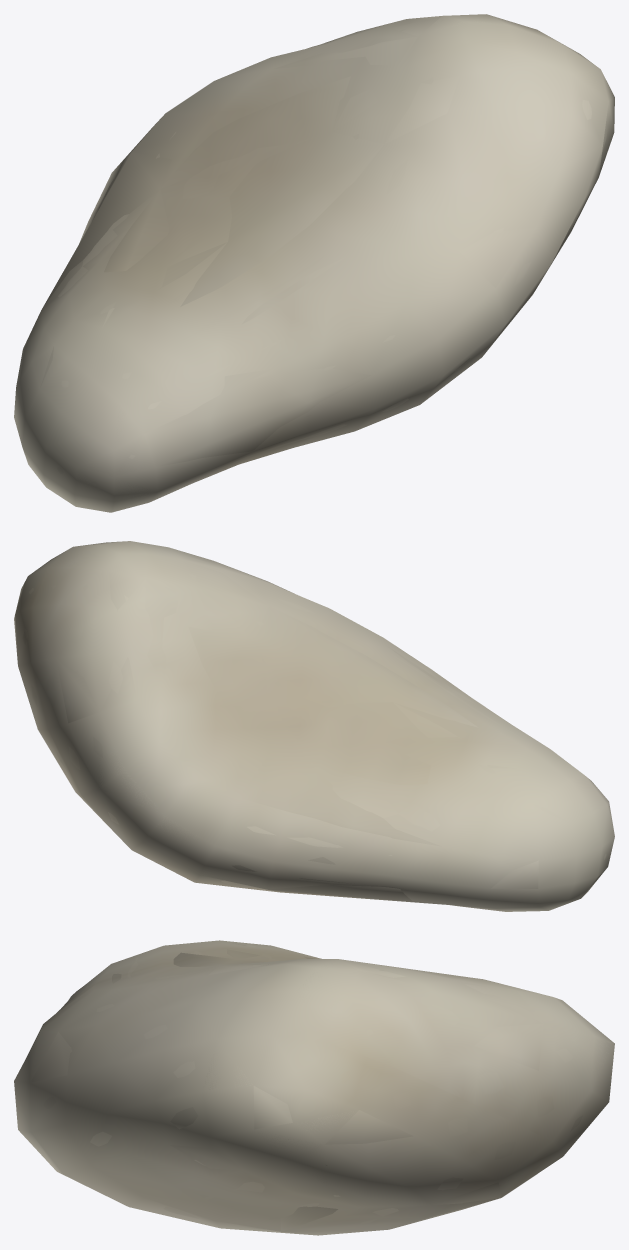
The model's file is L tarsi centrale.fbx.
3 renders of one model, top to bottom at view 1: azimuth 30°, elevation 25°; view 2: azimuth 150°, elevation 25°; view 3: azimuth 270°, elevation 25°, orthographic. The views are drawn at different scales.
Parts seen in each view (by area): view 1: L tarsi centrale, L tarsi centrale low, L tarsi centrale high; view 2: L tarsi centrale, L tarsi centrale low, L tarsi centrale high; view 3: L tarsi centrale, L tarsi centrale low, L tarsi centrale high.
Boxes of the visible parts, <box> form: L tarsi centrale: <box>14,14,614,512</box>; L tarsi centrale low: <box>40,15,607,511</box>; L tarsi centrale high: <box>28,28,608,489</box>; L tarsi centrale: <box>14,541,614,911</box>; L tarsi centrale low: <box>14,545,600,904</box>; L tarsi centrale high: <box>22,556,606,889</box>; L tarsi centrale: <box>14,940,614,1235</box>; L tarsi centrale low: <box>30,941,612,1231</box>; L tarsi centrale high: <box>29,945,582,1229</box>.
Size of the model in its own units: 0.7719 by 0.4015 by 0.5848.
1 material, 1 textured.
